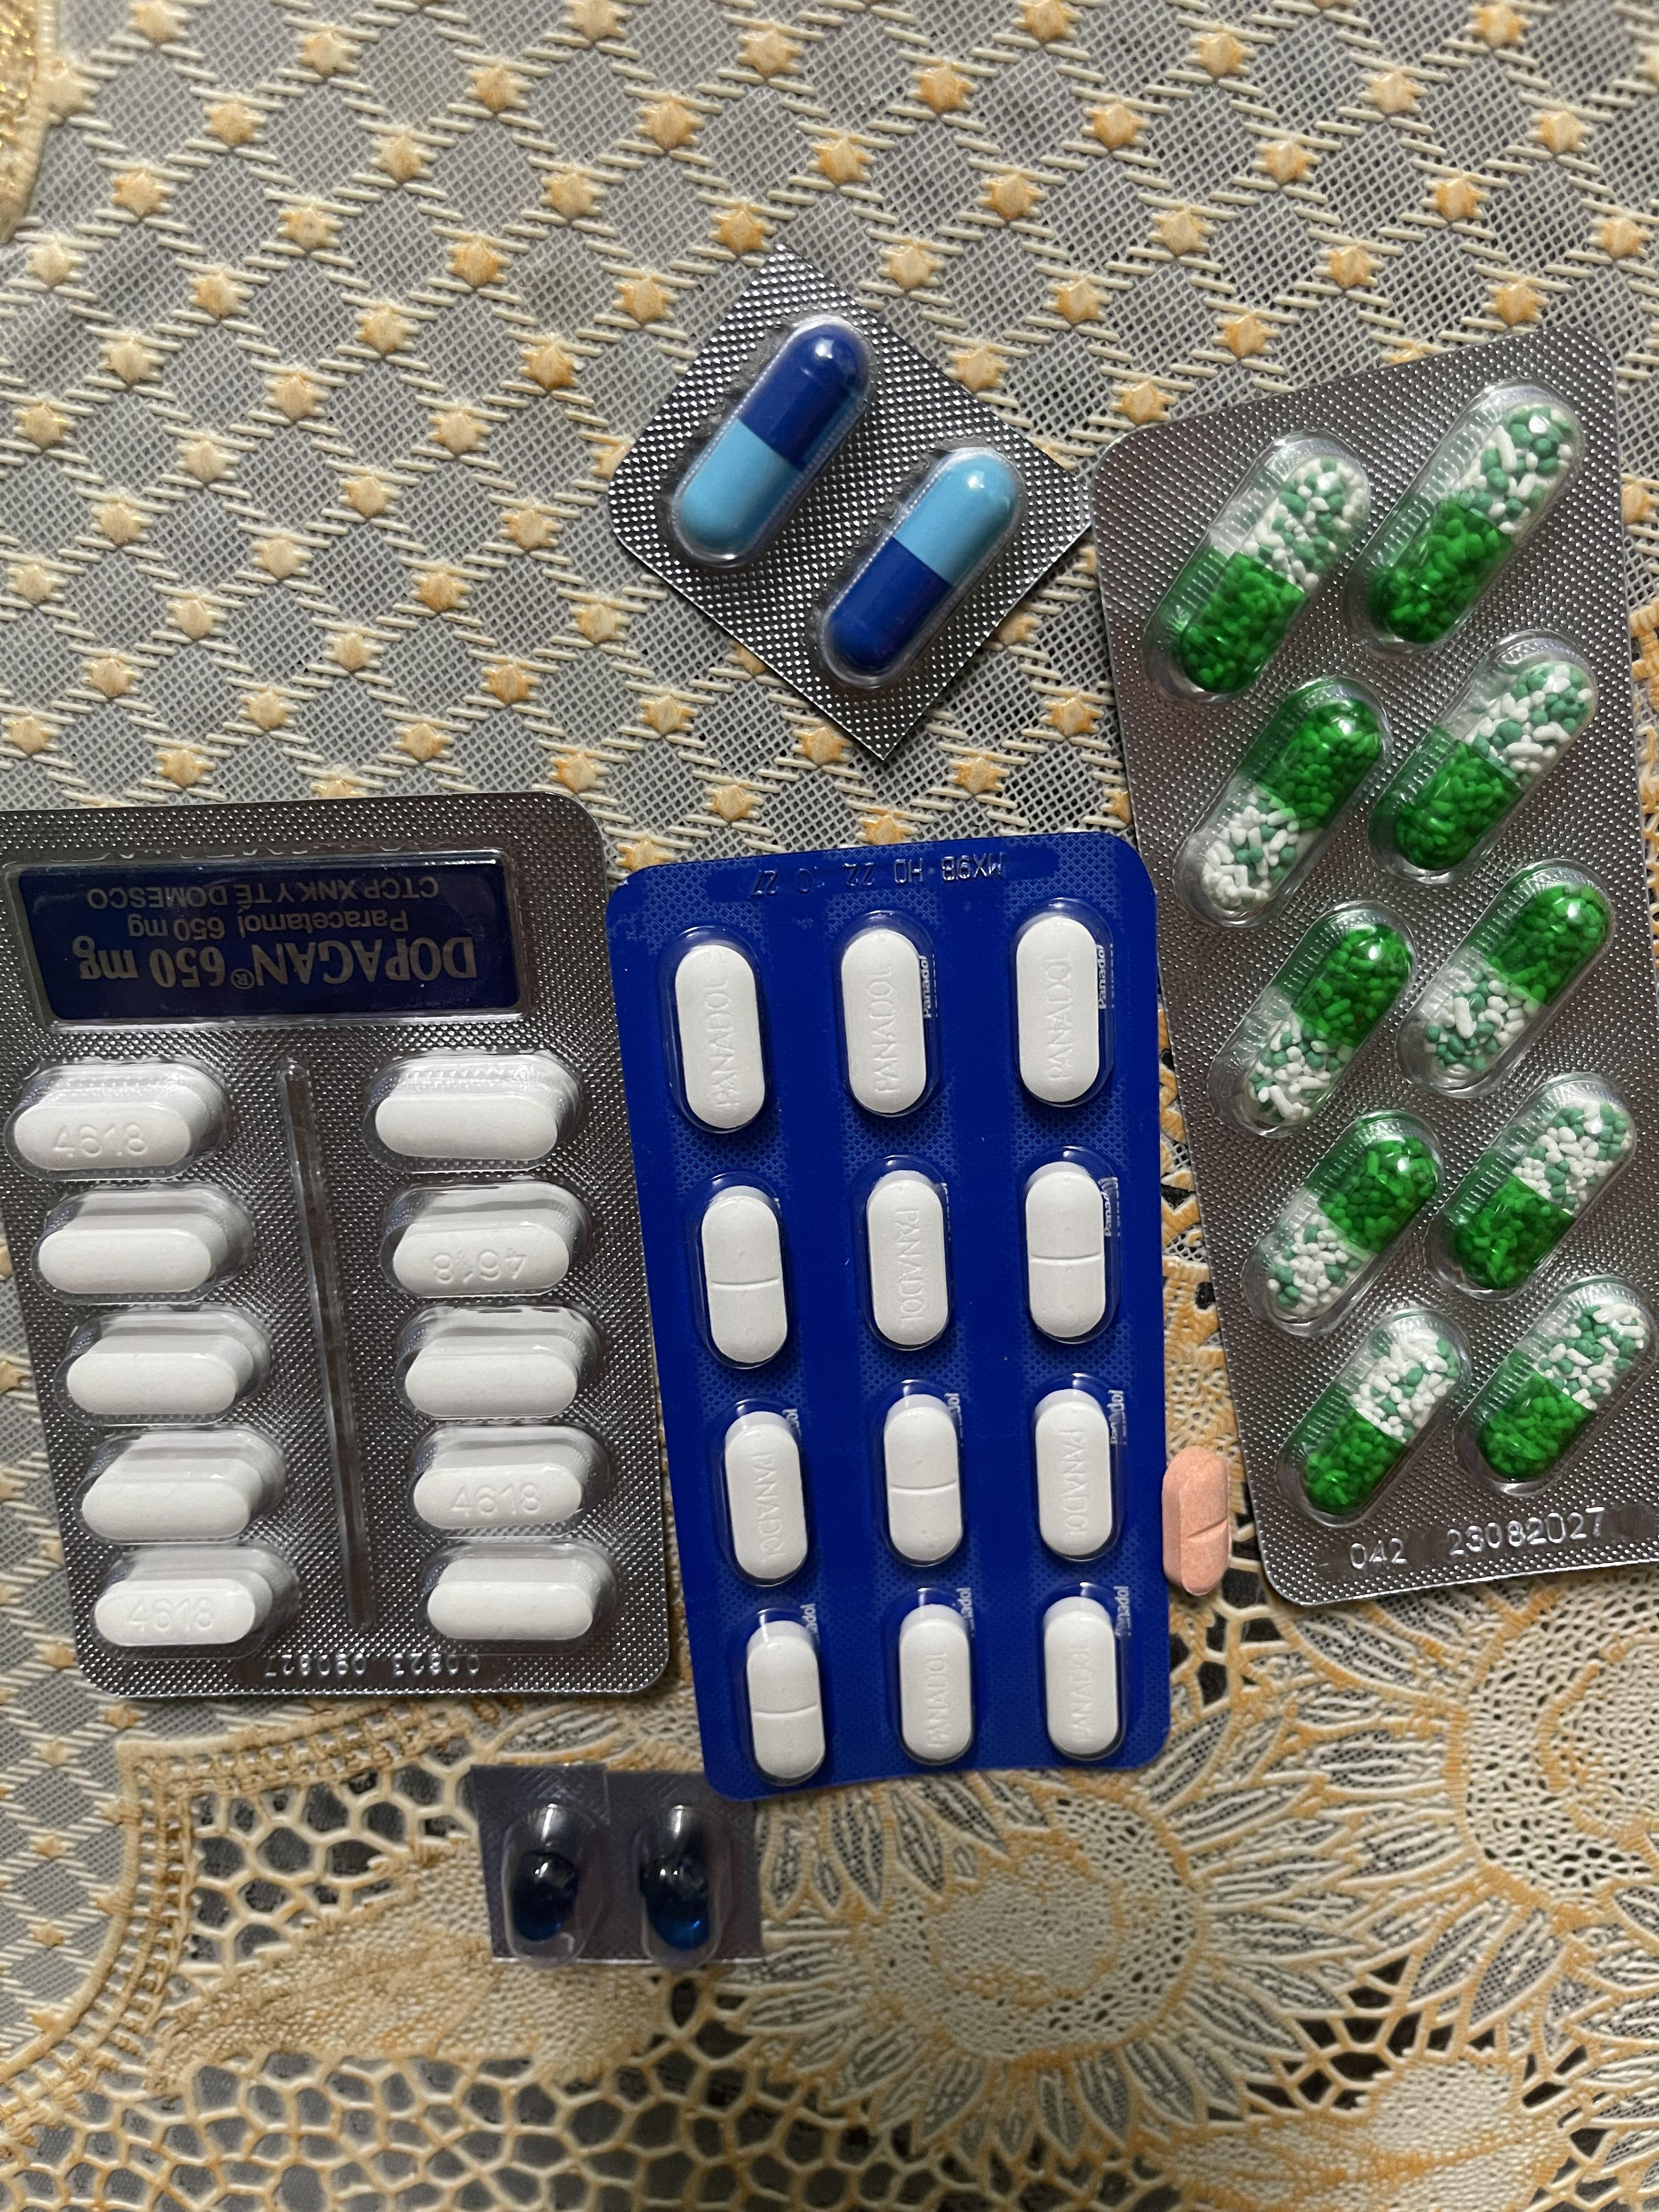Lincomyxin_500mg: (638, 1844, 711, 1951), (511, 1846, 584, 1942)
Loratadine_10mg: (1164, 1447, 1227, 1595)
Paracetamol_350mg: (1011, 909, 1108, 1101), (673, 944, 767, 1132), (840, 925, 932, 1116), (699, 1186, 786, 1367), (864, 1170, 951, 1352), (1023, 1162, 1110, 1339), (723, 1411, 809, 1585), (1032, 1390, 1117, 1564), (880, 1390, 964, 1564), (1040, 1592, 1122, 1764), (744, 1616, 824, 1782), (896, 1601, 974, 1770)
Paracetamol_500mg: (10, 1064, 230, 1176), (78, 1430, 284, 1545), (35, 1193, 249, 1299), (369, 1057, 577, 1165), (59, 1313, 268, 1420), (399, 1308, 598, 1420), (385, 1188, 584, 1296), (411, 1428, 598, 1534), (94, 1552, 286, 1653), (423, 1548, 610, 1646)
Paracetamol_650mg: (1370, 402, 1581, 643), (1176, 453, 1371, 693), (1387, 660, 1598, 864), (1412, 892, 1615, 1087), (1201, 700, 1380, 906), (1448, 1096, 1633, 1285), (1262, 1127, 1439, 1318), (1297, 1322, 1466, 1514), (1476, 1294, 1650, 1479), (1239, 932, 1412, 1118)
pill: (666, 315, 878, 570), (814, 448, 1023, 685)
